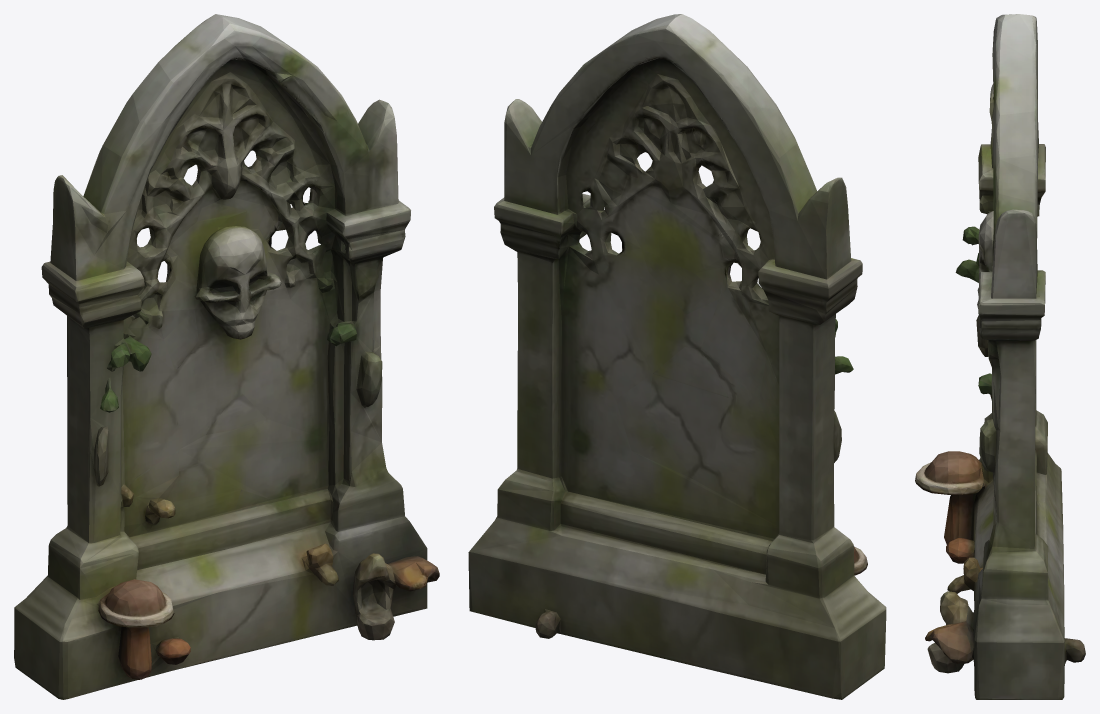
Rendered from tombstone_skull_mushrooms_2.glb.
3 views of the same model, side by side, from view 1: azimuth 30°, elevation 25°; view 2: azimuth 150°, elevation 25°; view 3: azimuth 270°, elevation 25° (orthographic). The views are drawn at different scales.
Visible parts, largest first — view 1: geometry_0; view 2: geometry_0; view 3: geometry_0.
Part boxes in pixels (<box>): geometry_0: <box>14,14,439,699</box>; geometry_0: <box>468,14,886,699</box>; geometry_0: <box>915,14,1085,699</box>.
Size of the model in its own units: 0.6257 by 0.9989 by 0.258.
Materials: 1 (1 with a texture image).
